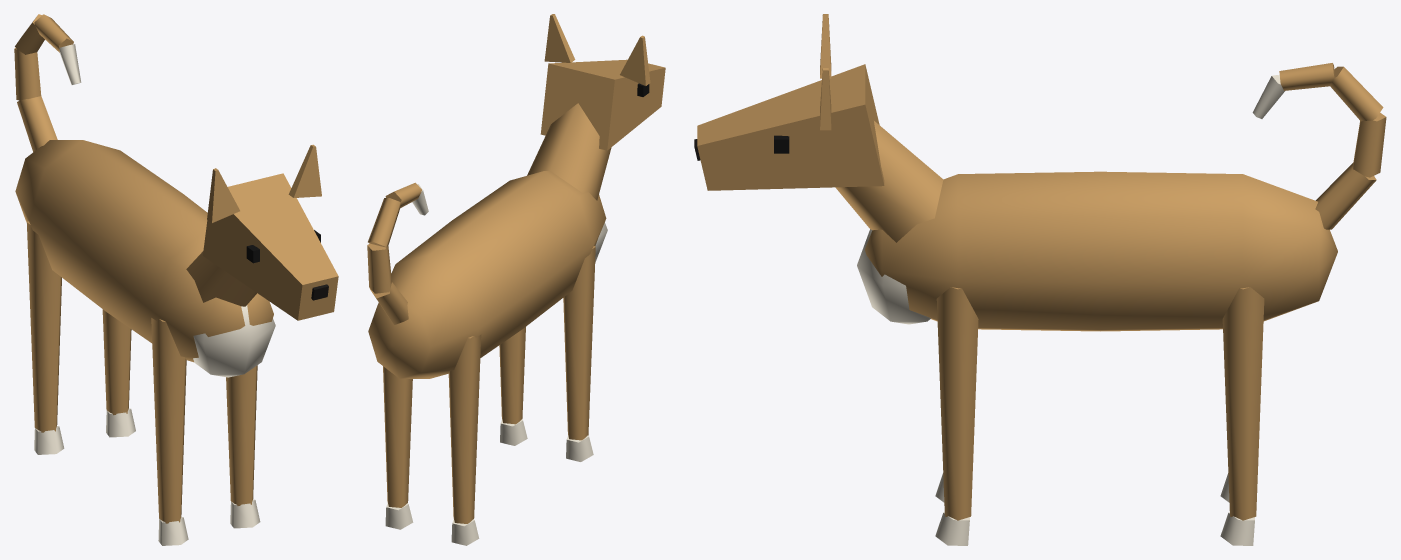
Rendered from anjing.glb.
3 renders of one model, left to right at view 1: azimuth 30°, elevation 25°; view 2: azimuth 150°, elevation 25°; view 3: azimuth 270°, elevation 25°, orthographic. The views are drawn at different scales.
Parts seen in each view (by area): view 1: body, head, leg_fr, leg_rr, tail, leg_fl, leg_rl; view 2: body, head, leg_rr, leg_fr, leg_rl, tail, leg_fl; view 3: body, head, leg_fl, leg_rl, tail.
Boxes of the visible parts, left/top/right/bottom form: body: left=15, top=140, right=275, bottom=377; head: left=203, top=144, right=338, bottom=320; leg_fr: left=151, top=318, right=188, bottom=545; leg_rr: left=26, top=221, right=64, bottom=454; tail: left=14, top=14, right=81, bottom=151; leg_fl: left=226, top=365, right=260, bottom=528; leg_rl: left=102, top=309, right=135, bottom=437; body: left=368, top=103, right=611, bottom=378; head: left=540, top=14, right=665, bottom=150; leg_rr: left=448, top=334, right=481, bottom=545; leg_fr: left=563, top=246, right=595, bottom=461; leg_rl: left=383, top=366, right=413, bottom=529; tail: left=367, top=182, right=428, bottom=324; leg_fl: left=499, top=327, right=527, bottom=445; body: left=835, top=121, right=1337, bottom=331; head: left=694, top=14, right=884, bottom=190; leg_fl: left=935, top=287, right=978, bottom=545; leg_rl: left=1220, top=287, right=1264, bottom=545; tail: left=1252, top=63, right=1386, bottom=229.
Bounding box in the file's own units: 0.1903 × 0.6907 × 0.9029.
Materials: 1 (1 with a texture image).
